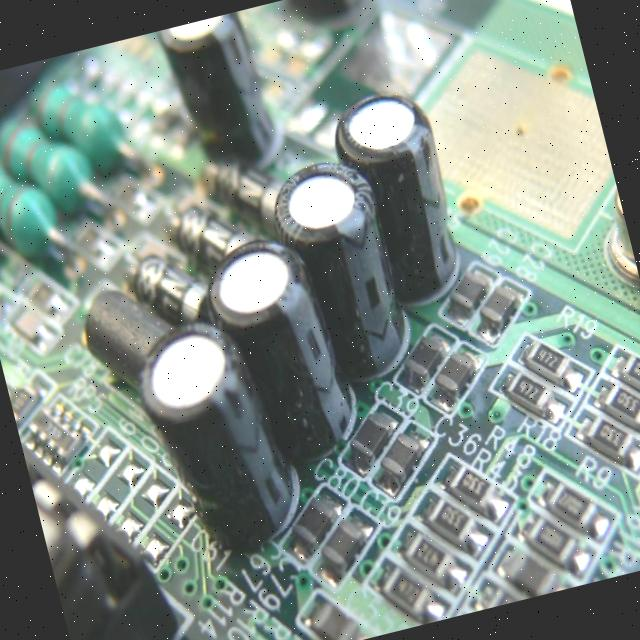Electrolytic capacitor: (125, 303, 316, 588), (198, 225, 380, 487), (262, 154, 424, 402), (328, 80, 475, 314)
